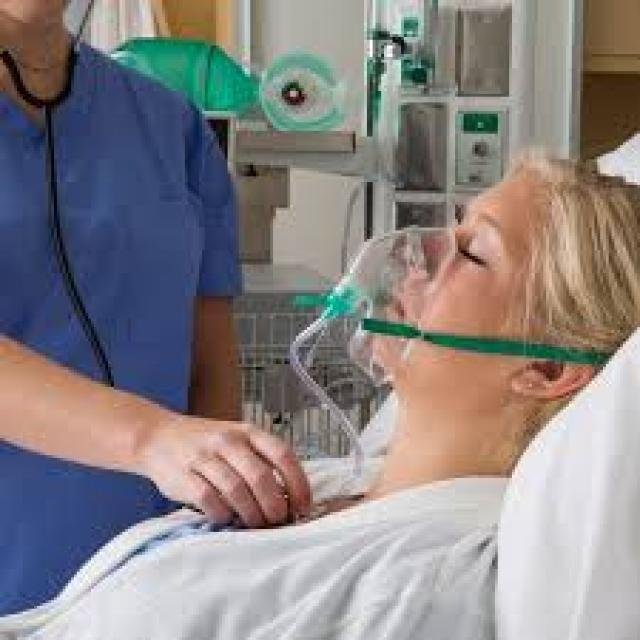oxygen_mask: (304, 240, 437, 395)
